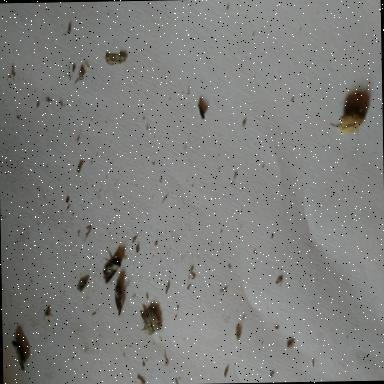pbw: (330, 111, 367, 134), (103, 258, 122, 284), (12, 340, 25, 372), (148, 308, 160, 332), (104, 54, 127, 66), (114, 284, 122, 316), (140, 310, 148, 333), (146, 315, 154, 336)
